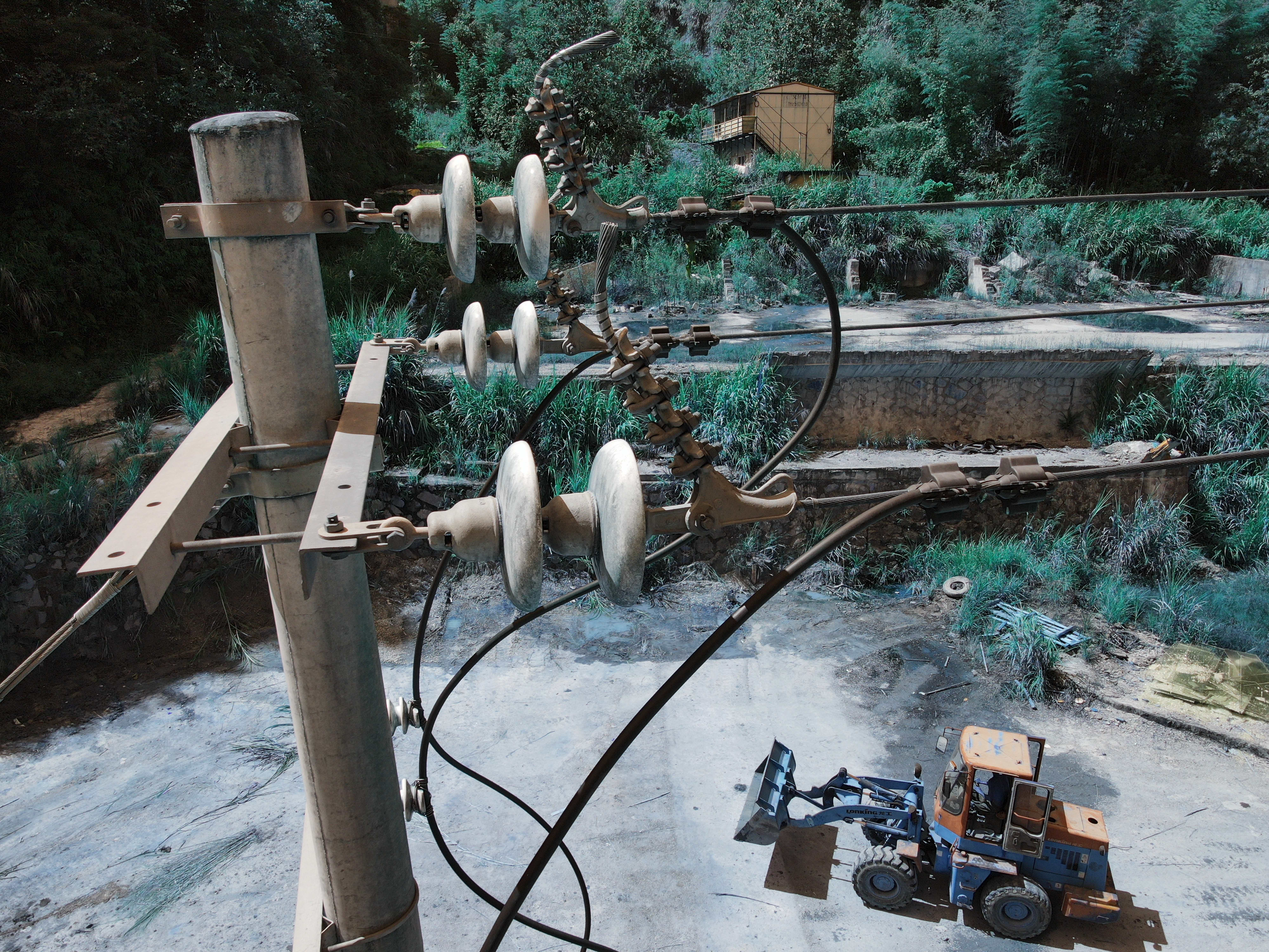severe_soiling_no_discharge_whole: (425, 430, 657, 616), (394, 149, 560, 286), (427, 299, 551, 396), (400, 777, 429, 822), (387, 695, 420, 734)
